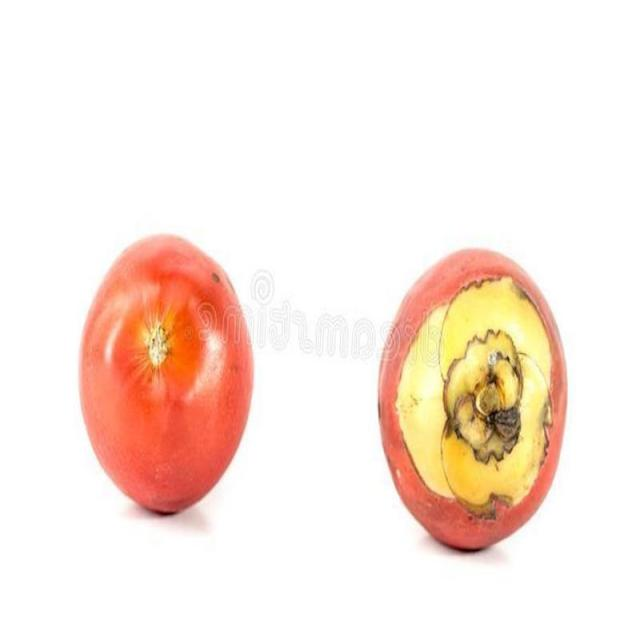good: (376, 250, 568, 554), (78, 235, 257, 519)
